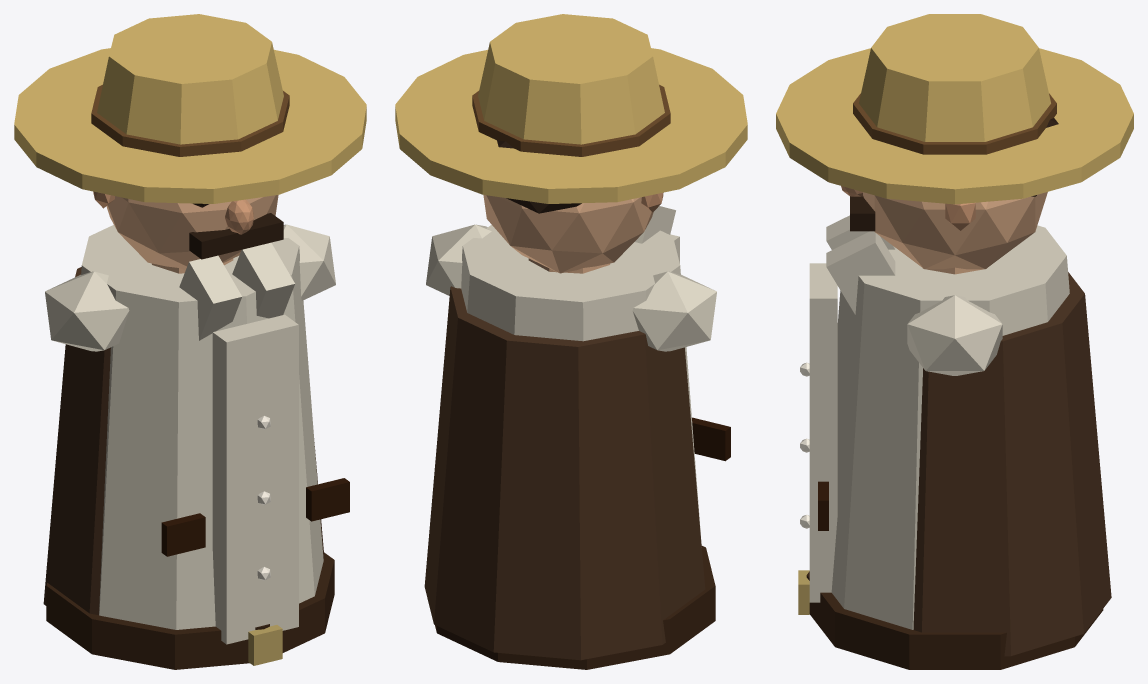
File: insan_e0_govde.glb
3 views of the same model, side by side, from view 1: azimuth 30°, elevation 25°; view 2: azimuth 150°, elevation 25°; view 3: azimuth 270°, elevation 25° (orthographic).
Parts seen in each view (by area): view 1: Cone; view 2: Cone; view 3: Cone.
Boxes of the visible parts, box(x1,y1,x2,y2) form: Cone: box(14, 14, 366, 669); Cone: box(395, 14, 747, 669); Cone: box(776, 14, 1133, 669).
Size of the model in its own units: 0.128 by 0.222 by 0.128.
